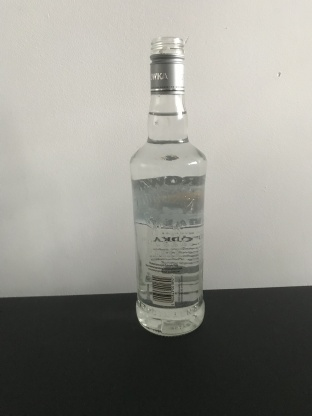nakretka: (148, 35, 186, 96)
